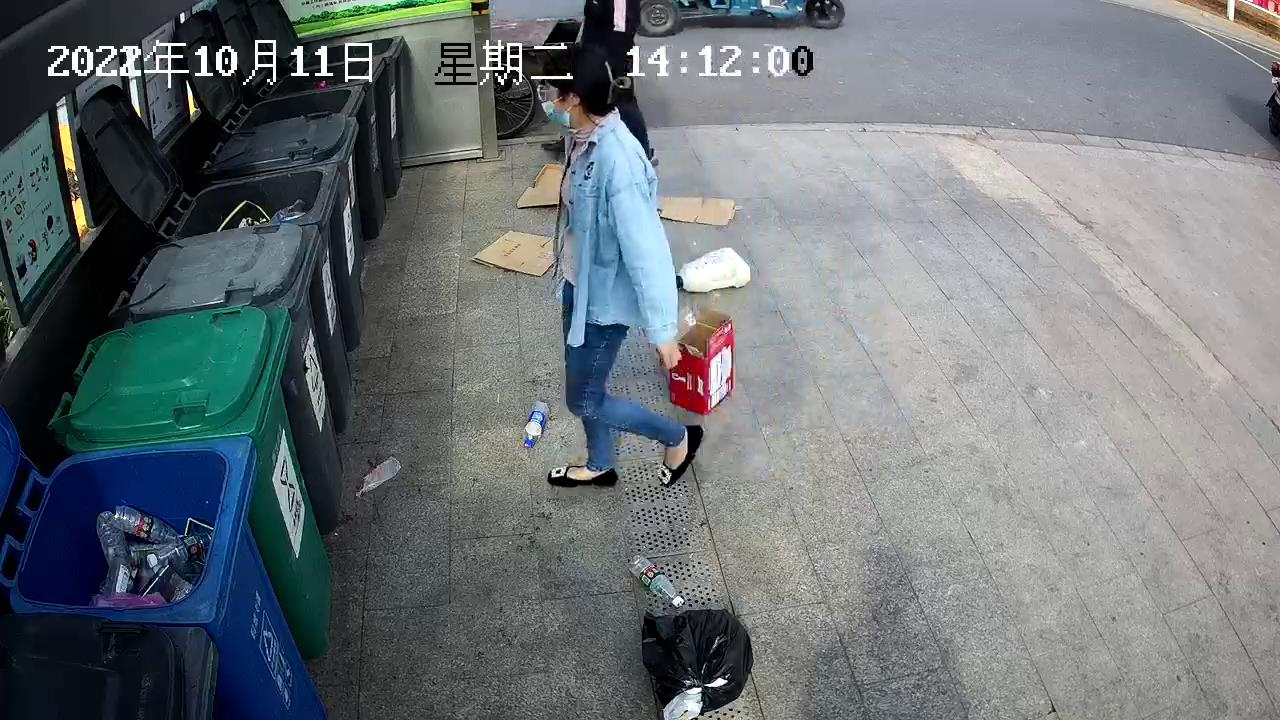garbage-bag: (639, 607, 755, 720)
suliaozhipin: (673, 244, 752, 293), (625, 552, 686, 608), (354, 453, 403, 499), (521, 396, 550, 448)
worker: (535, 41, 706, 491)
zhizhipin: (663, 303, 738, 415), (467, 225, 558, 277), (654, 191, 739, 229), (514, 160, 570, 210)
